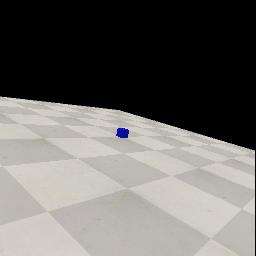box: (116, 128, 129, 138)
